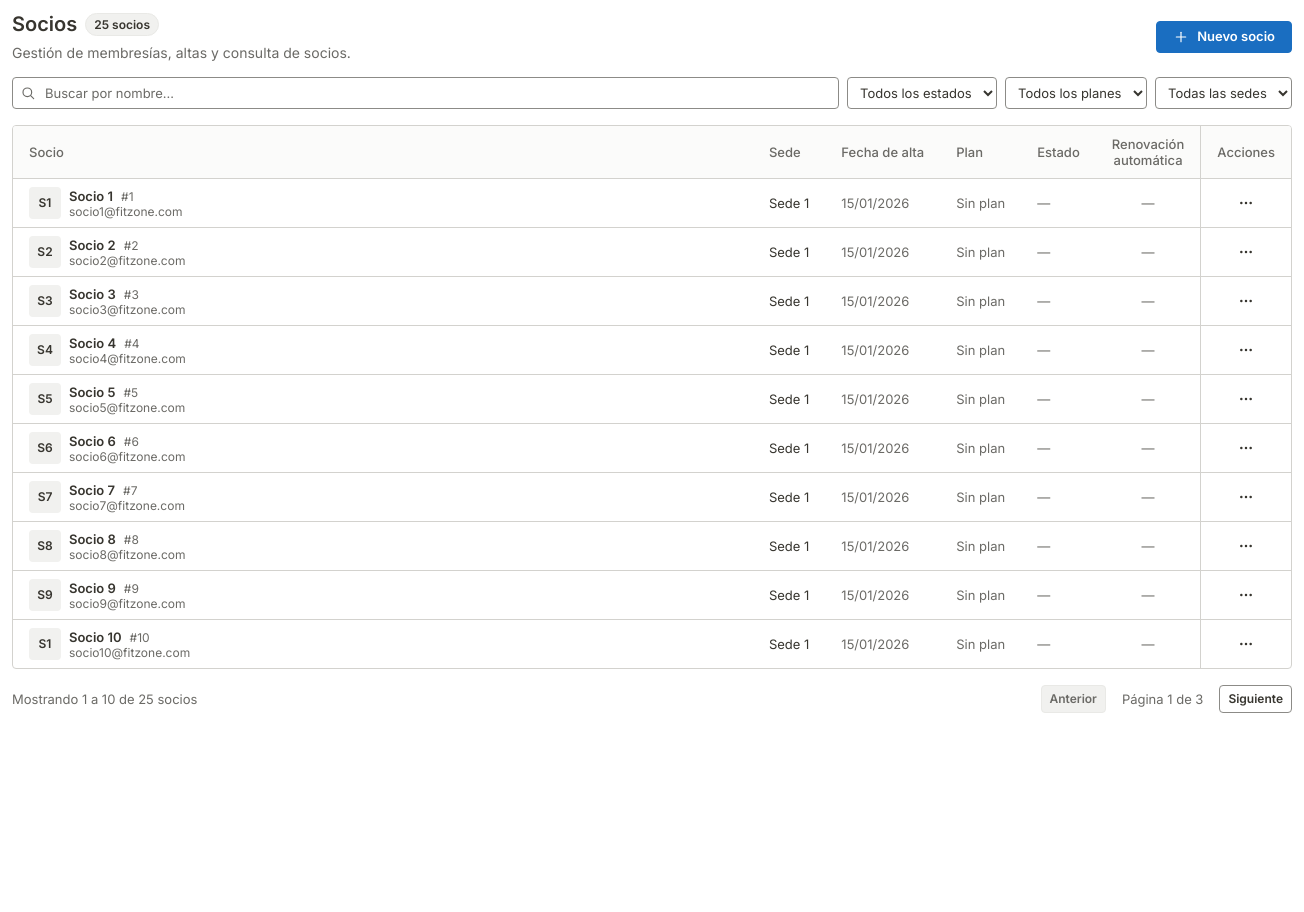
Test: GestionSociosPage › calcula el rango con la cantidad por página y muestra la paginación
The image size is (1304, 912).
expect the message "Mostrando 1 a 10 de 25 socios" is shown: met, box x1=12 y1=691 x2=197 y2=707
expect the navigation bar named "Paginación de socios" is shown: met, box x1=1040 y1=685 x2=1292 y2=713
Click the button "Siguiente": (1256, 699) x1=1219 y1=685 x2=1292 y2=713
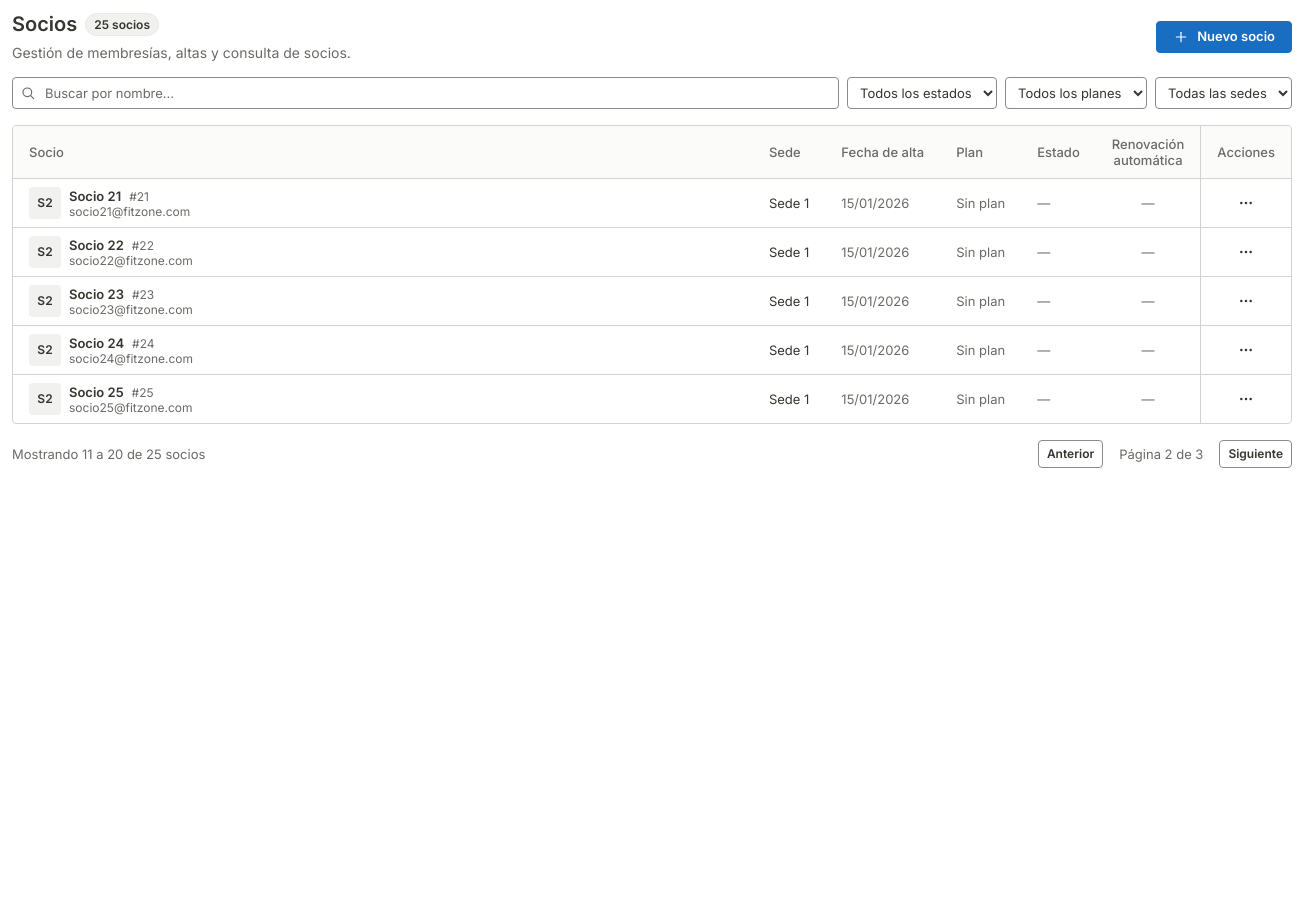
expect the message "Mostrando 11 a 20 de 25 socios" is shown: met, box x1=12 y1=446 x2=205 y2=462
